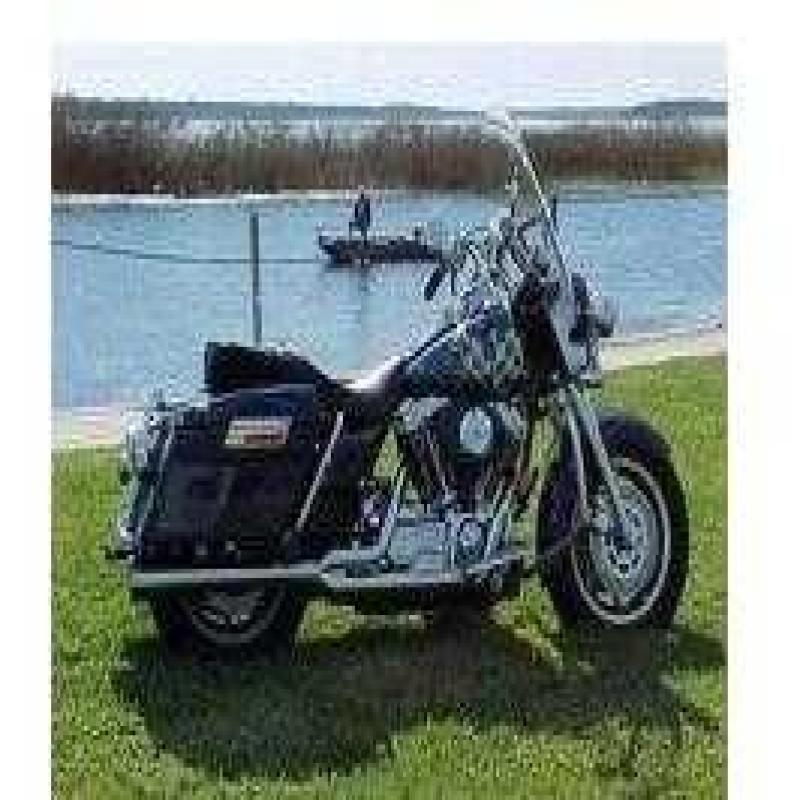bike: (135, 143, 693, 683)
